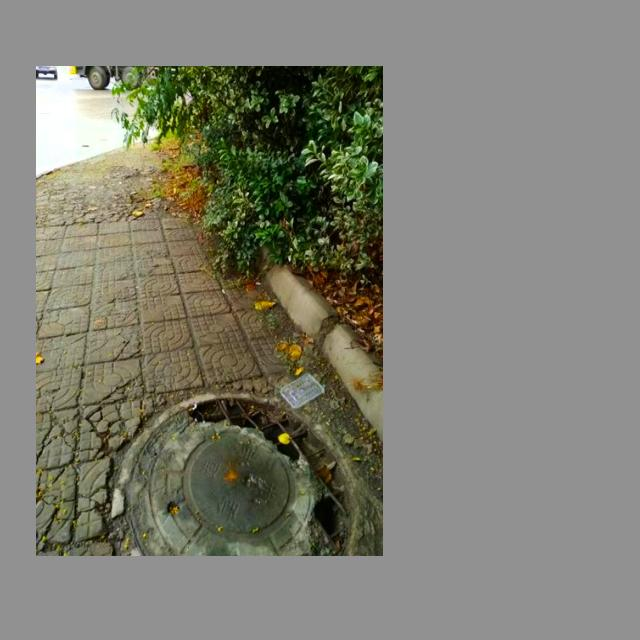broke: (106, 390, 354, 556)
